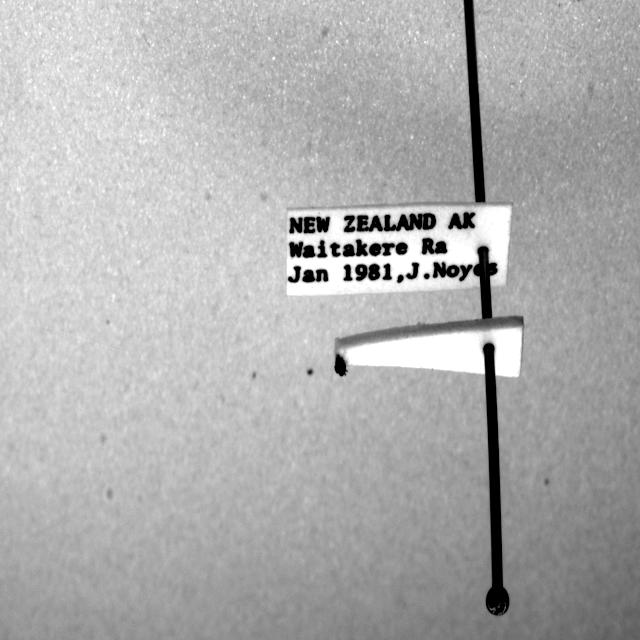typed_label: (286, 202, 512, 296)
